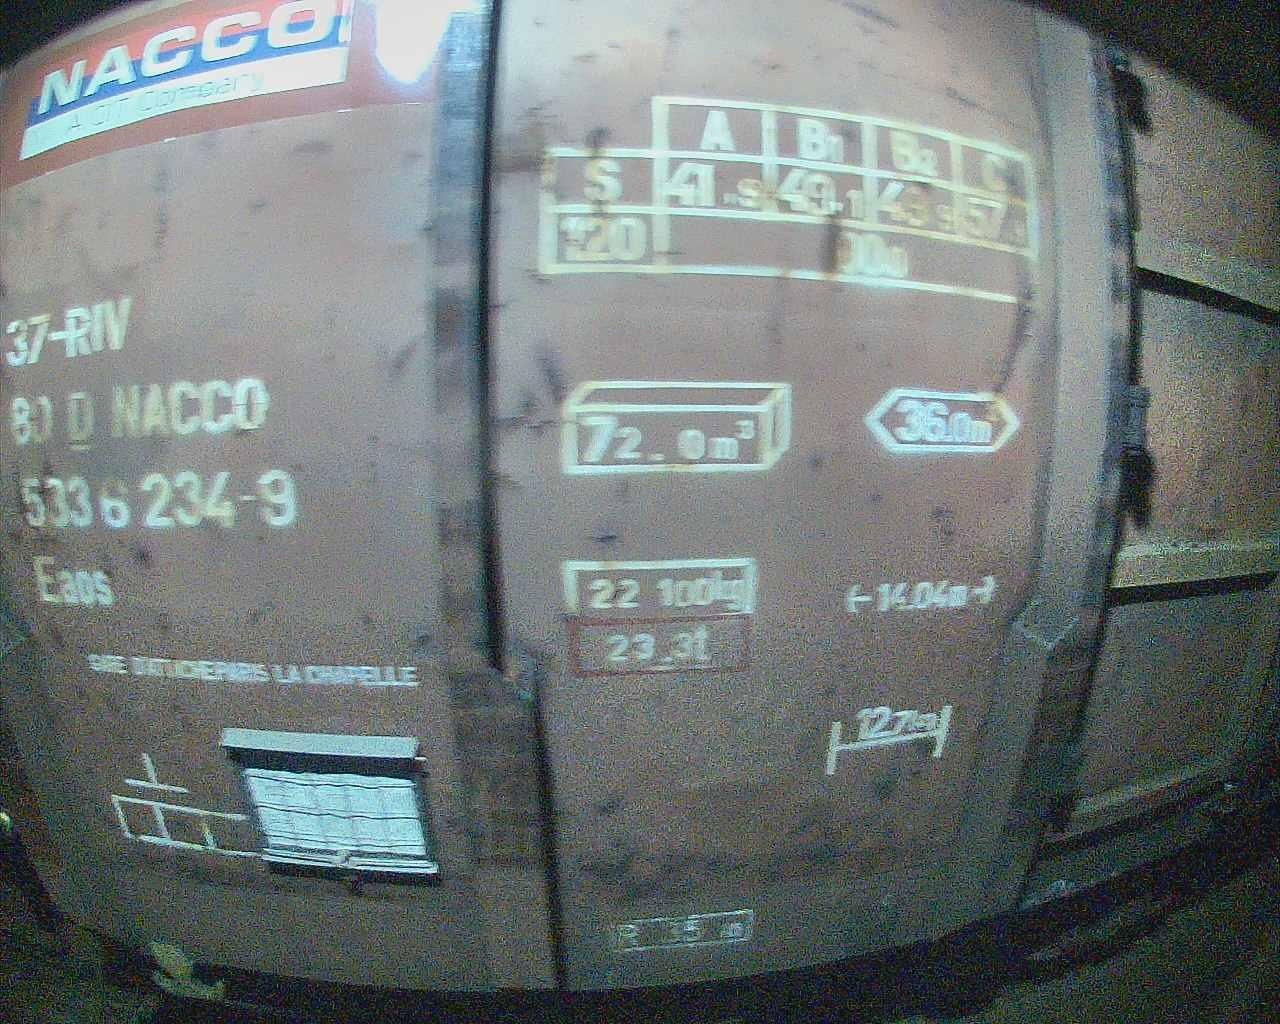UIC: (1, 290, 313, 622)
